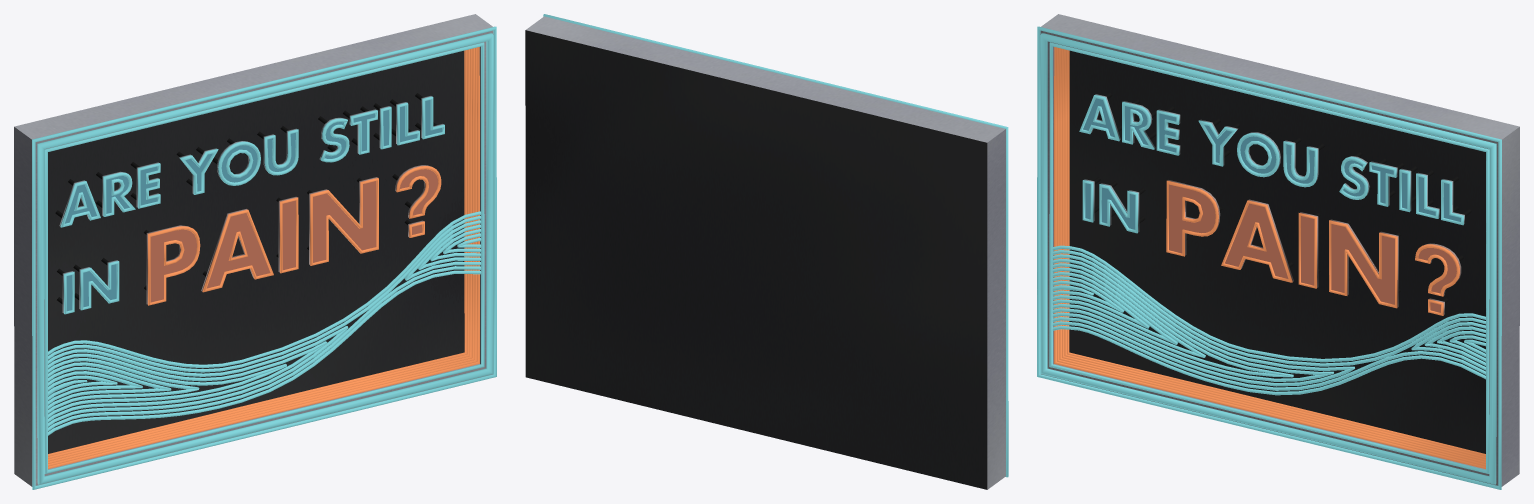
3 views of the same model, side by side, from view 1: azimuth 30°, elevation 25°; view 2: azimuth 150°, elevation 25°; view 3: azimuth 330°, elevation 25° (orthographic).
Visible parts, largest first — view 1: Back-material, Neon-material; view 2: Back-material, Neon-material; view 3: Back-material, Neon-material.
Part boxes in pixels (x1,y1,x2,y2): Back-material: (14, 14, 493, 486); Neon-material: (32, 26, 496, 489); Back-material: (525, 16, 1005, 489); Neon-material: (543, 14, 1008, 477); Back-material: (1040, 14, 1519, 486); Neon-material: (1037, 26, 1501, 489).
Size of the model in its own units: 422 by 304 by 35.14.
Materials: 2 (2 with a texture image).
